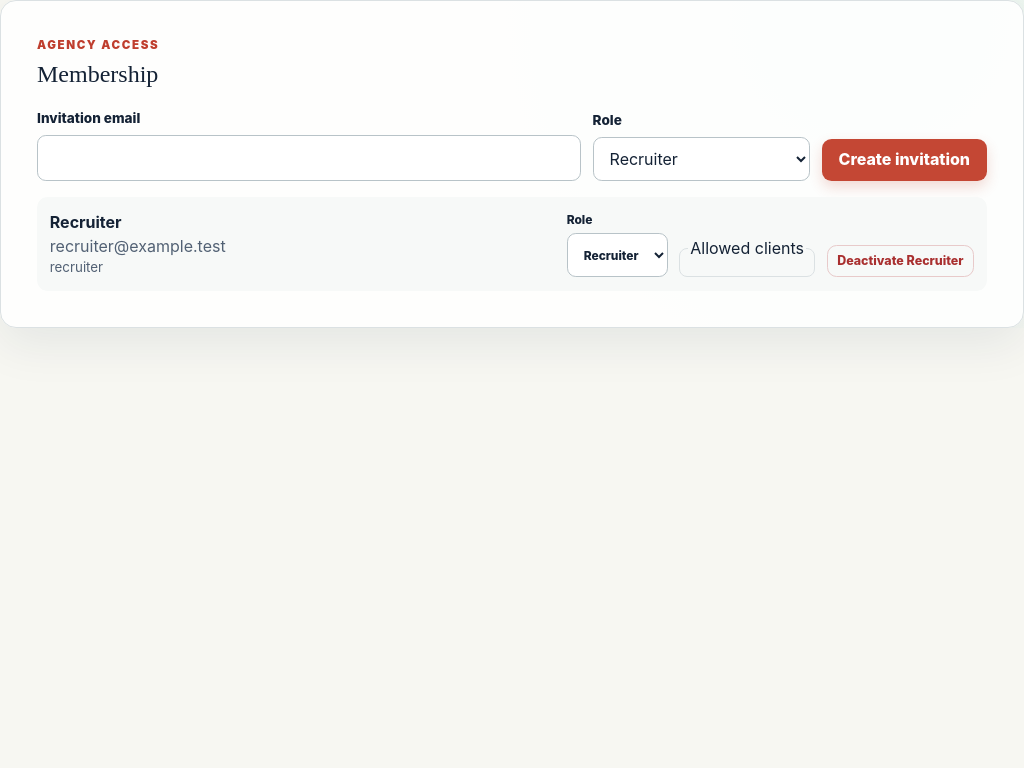
Test: MembershipManager › creates an ephemeral invitation and never submits email verification claims
Type "new@example.test" into the field labelled "Invitation email" at (309, 158), box [37,135,581,181]
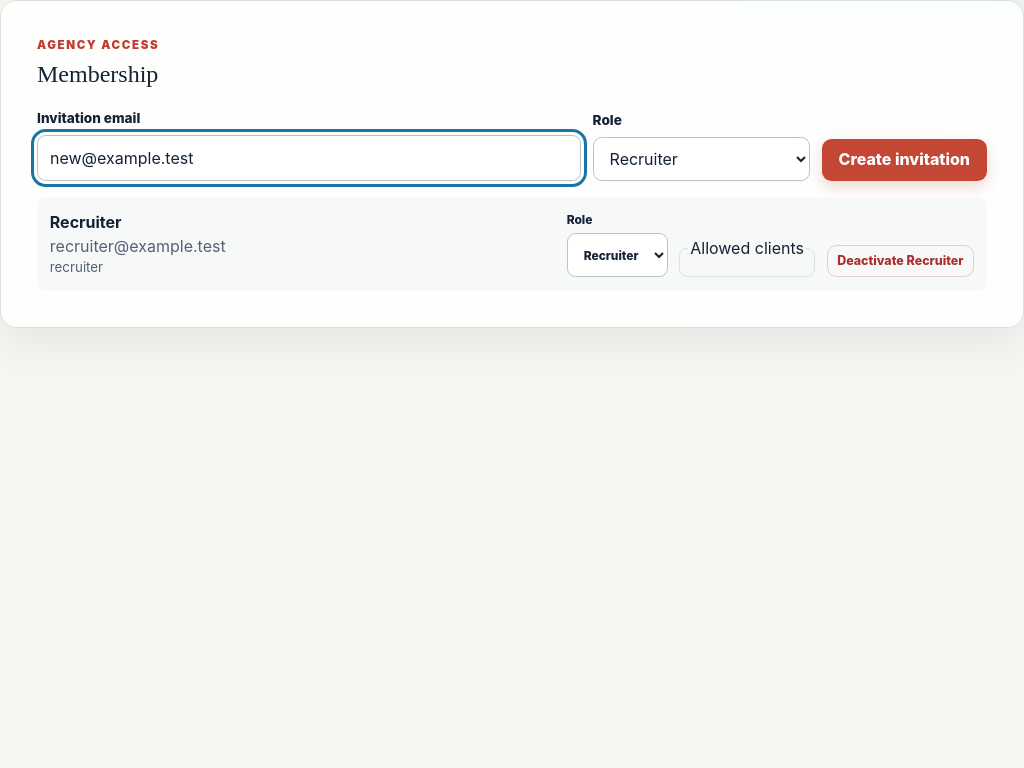
Click the button "Create invitation" at (904, 160), box [822,139,987,181]
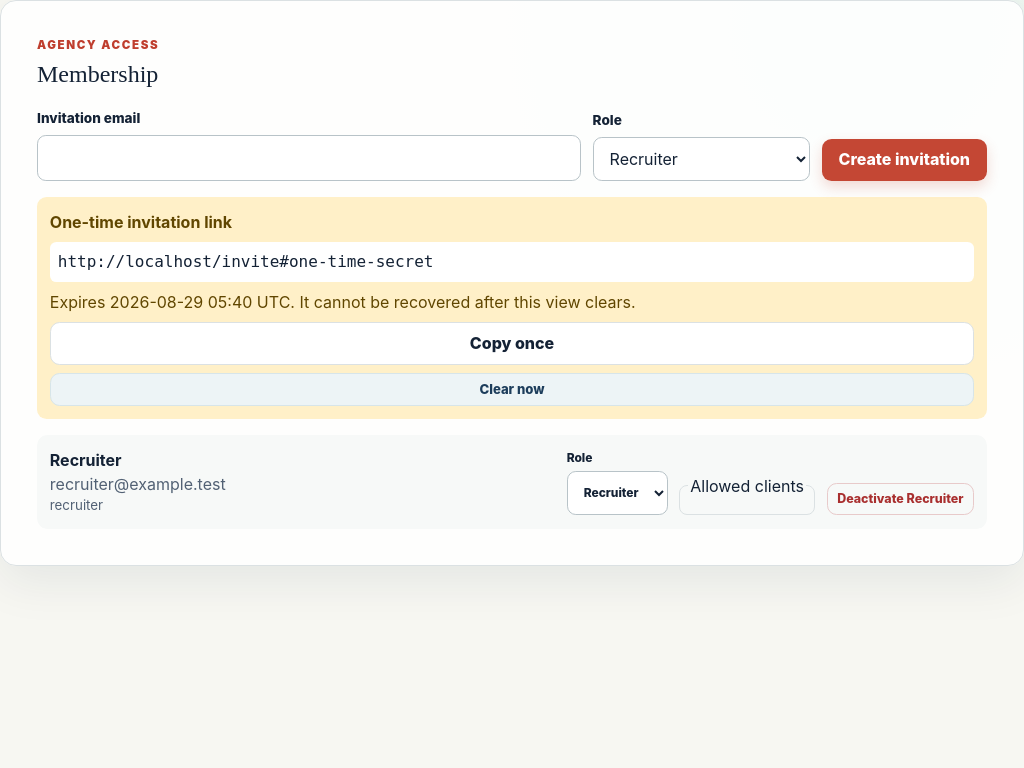
Check: the text "http://localhost/invite#one-time-secret" is shown, box [50,242,974,282]
